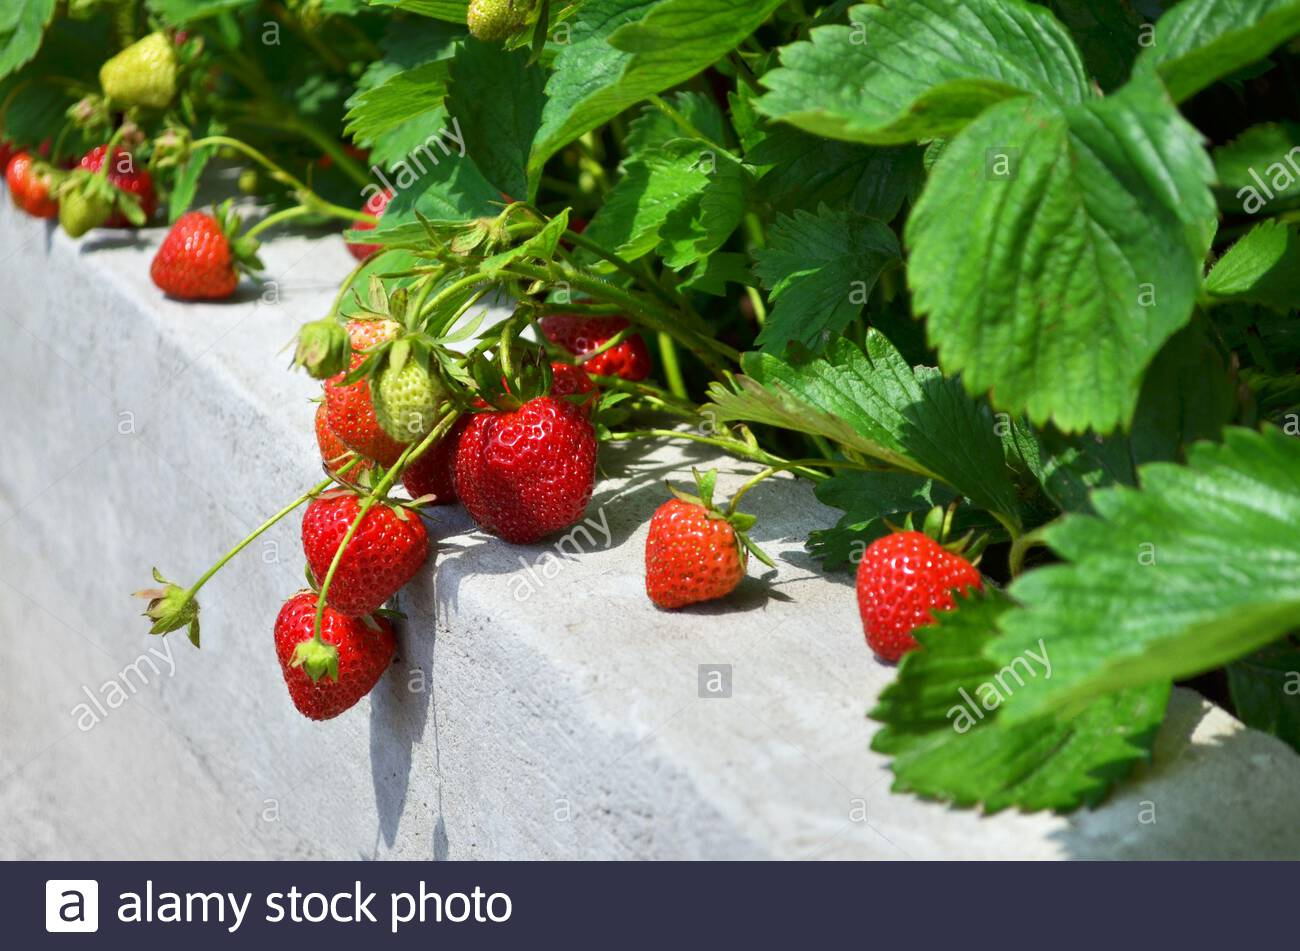ripe: (446, 383, 601, 545), (855, 524, 996, 665), (297, 485, 436, 613), (273, 591, 402, 722), (343, 165, 495, 269), (530, 282, 651, 400), (644, 488, 748, 616), (325, 311, 408, 470), (145, 210, 244, 305), (309, 387, 394, 492), (85, 136, 160, 223), (7, 137, 79, 225)
unripe: (98, 27, 187, 112), (373, 349, 442, 446), (49, 166, 117, 250), (145, 577, 210, 644), (295, 309, 343, 386)
